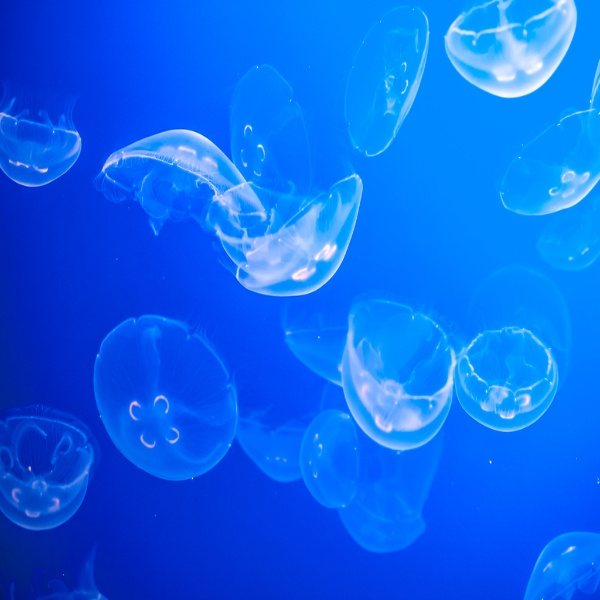Jellyfish: (91, 311, 274, 481), (94, 126, 266, 236), (338, 298, 456, 454), (229, 171, 363, 295), (343, 2, 434, 161), (227, 62, 315, 216), (446, 0, 578, 101), (0, 405, 102, 534), (451, 324, 558, 433), (499, 105, 599, 215), (0, 100, 81, 186), (298, 406, 362, 512), (343, 482, 426, 551), (533, 190, 599, 269), (233, 417, 307, 483), (527, 534, 599, 599), (288, 312, 347, 389)
